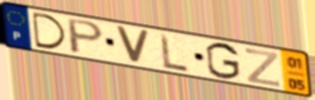D: (30, 11, 70, 52)
G: (204, 41, 242, 81)
L: (158, 32, 191, 74)
P: (66, 17, 106, 56)
V: (113, 24, 152, 66)
Z: (243, 47, 282, 89)
